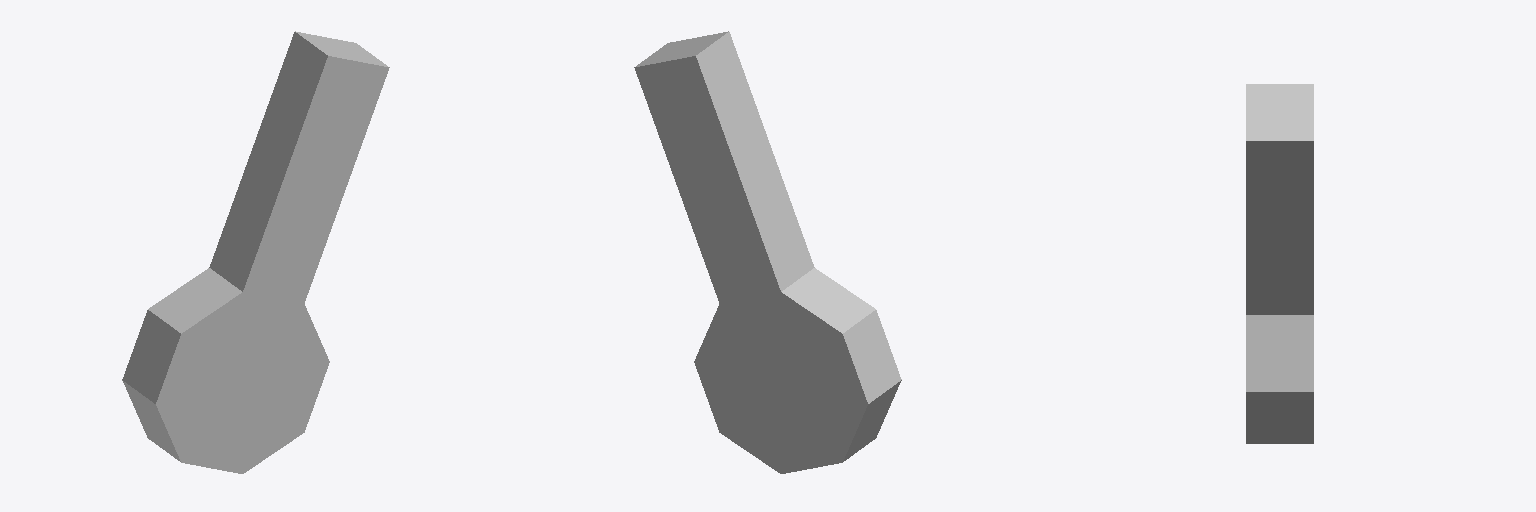
The model's file is rot_test.obj.
3 renders of one model, left to right at view 1: azimuth 30°, elevation 25°; view 2: azimuth 150°, elevation 25°; view 3: azimuth 270°, elevation 25°, orthographic.
Parts seen in each view (by area): view 1: Cylinder; view 2: Cylinder; view 3: Cylinder.
Part boxes in pixels (left/top/right/bottom): Cylinder: left=122, top=31, right=389, bottom=473; Cylinder: left=634, top=31, right=901, bottom=473; Cylinder: left=1246, top=84, right=1313, bottom=443.
Size of the model in its own units: 2.69 by 4.36 by 0.6664.